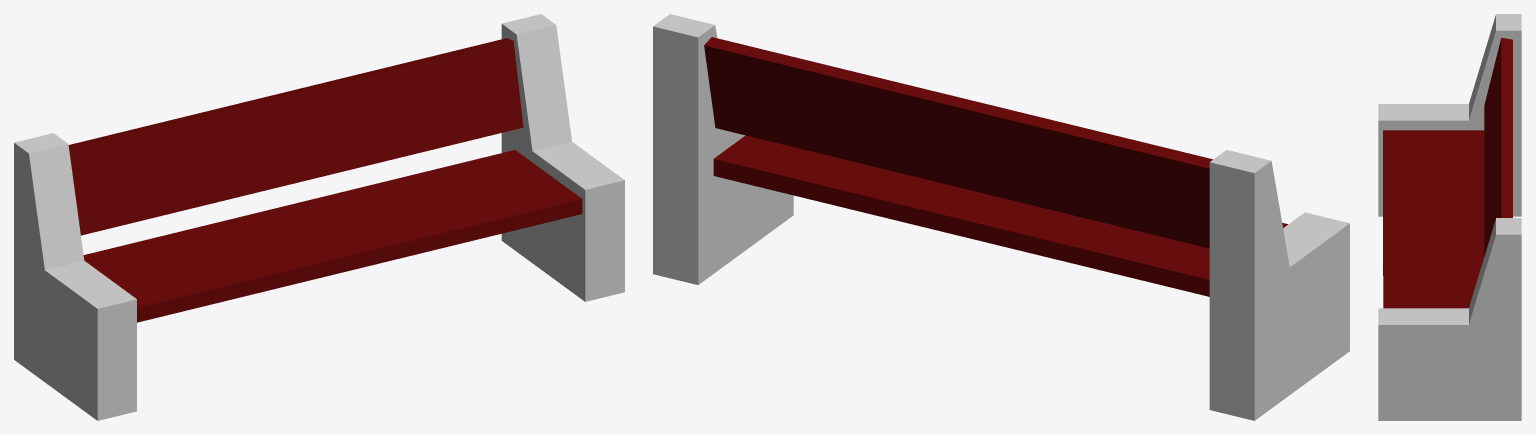
File: Parkbench-02.fbx
3 renders of one model, left to right at view 1: azimuth 30°, elevation 25°; view 2: azimuth 150°, elevation 25°; view 3: azimuth 270°, elevation 25°, orthographic. The views are drawn at different scales.
Parts seen in each view (by area): view 1: Parkbench-02; view 2: Parkbench-02; view 3: Parkbench-02.
Part boxes in pixels (x1,y1,x2,y2): Parkbench-02: (14, 14, 624, 420); Parkbench-02: (653, 14, 1349, 420); Parkbench-02: (1378, 14, 1521, 420).
Size of what is drawn, in the model's own units: 2.5 by 0.9854 by 0.6876.
